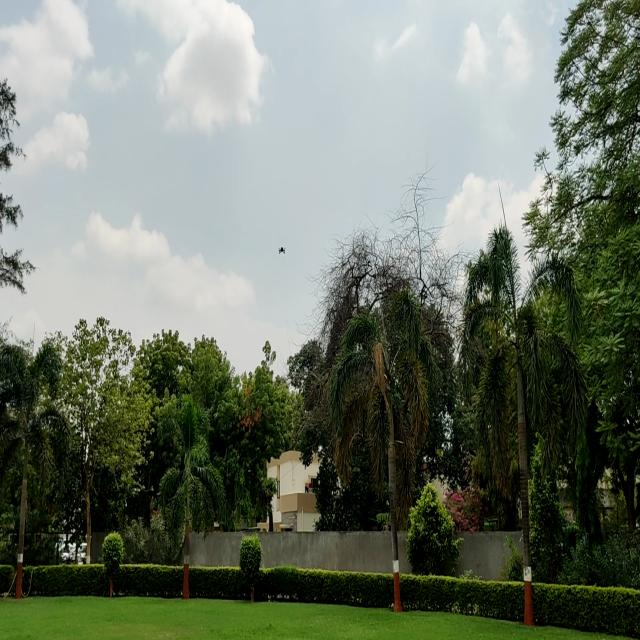drone: (272, 243, 292, 261)
